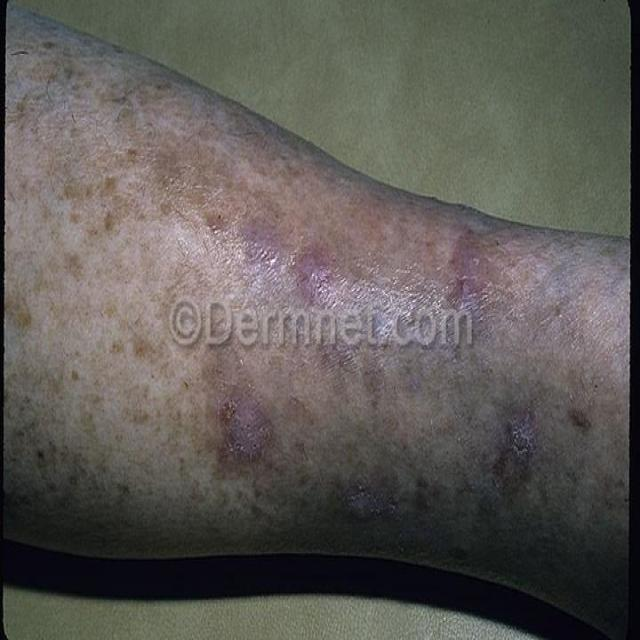Eczema: (196, 194, 538, 546)
